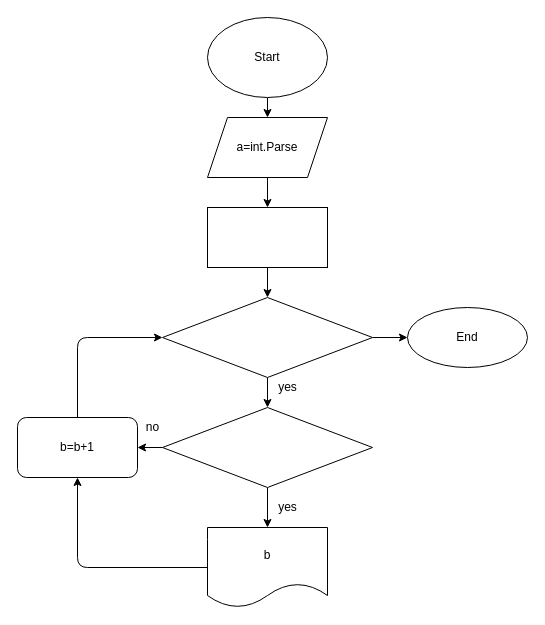
Some shapes in this 545 by 625 pixel diagram are drawn without their labels. The shapes that lost their labels are listed below. From the top down, each one's centre as x and y in pixels, then its label:
the point at 267,237: b=1
the point at 267,337: b<a
the point at 267,447: b % 2==0
